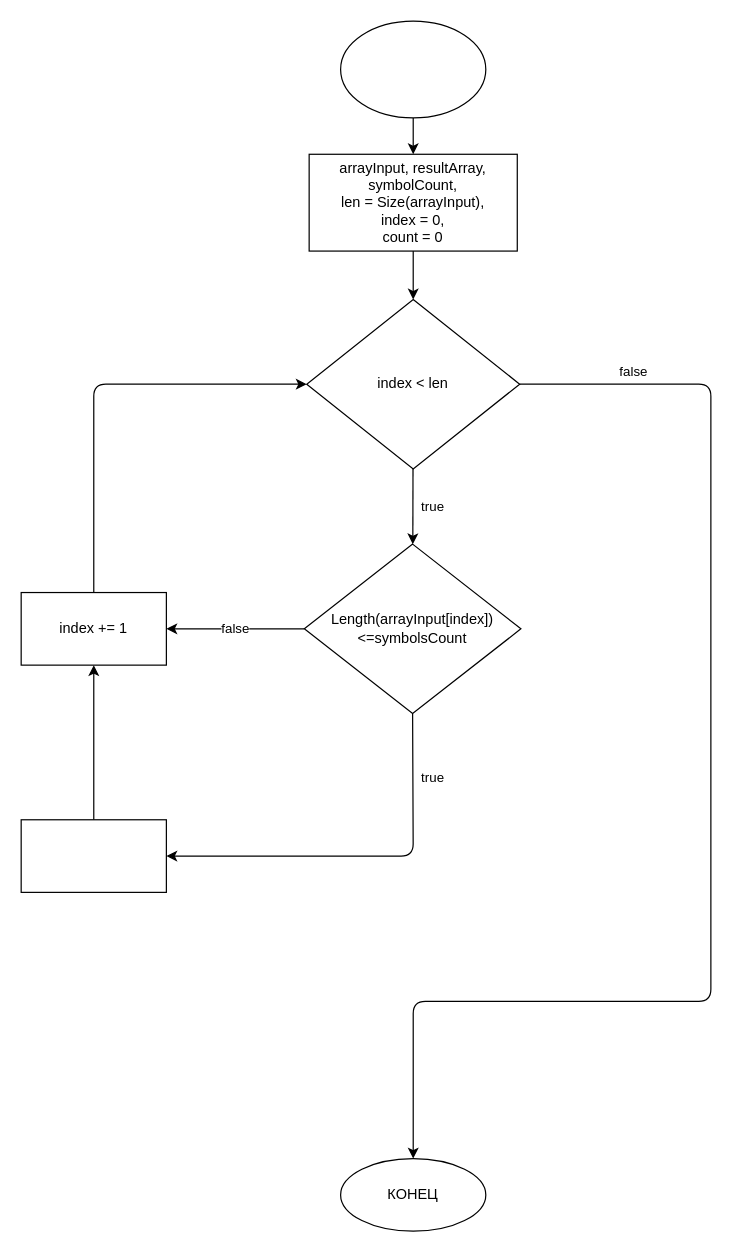
Image size: 742x1252. Some labels were removed from this diagram. Here are the shapes that lost their labels. From the top down, the centre of each, then its label:
(412,69): НАЧАЛО
(93,855): resultArray[count] = arrayInput[index], count += 1
